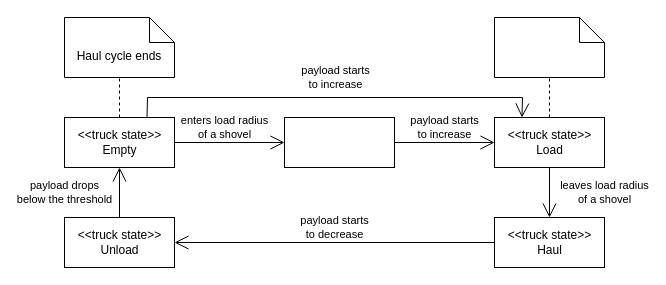
Some shapes in this 666 by 285 pixel diagram are drawn without their labels. Here are the shapes that lost their labels. From the top down, the box of each, then its label:
(494, 16, 604, 78): Haul cycle starts
(284, 116, 394, 168): <<truck state>> Wait Load
